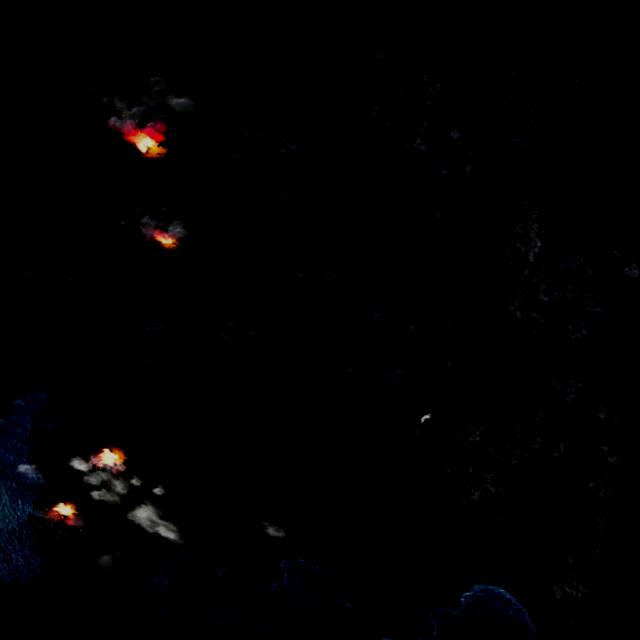fire: (122, 125, 170, 158), (91, 443, 128, 471), (48, 499, 78, 524), (150, 230, 180, 250)
smoke: (52, 447, 212, 549), (75, 59, 205, 144), (26, 508, 147, 584), (116, 197, 194, 247), (14, 457, 56, 483), (254, 518, 290, 541)
